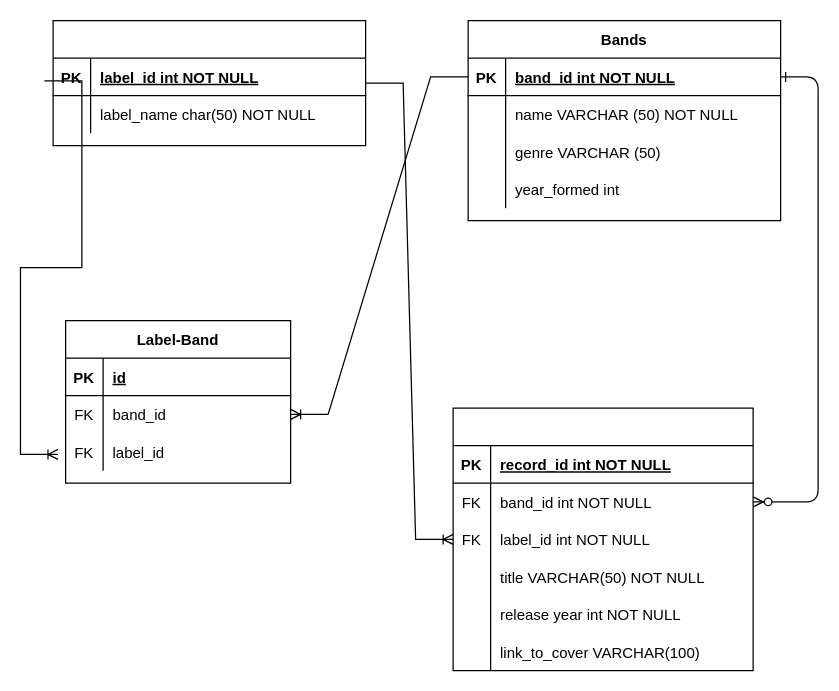
Some shapes in this 839 by 691 pixel diagram are drawn without their labels. Each missing label, with the box of its shape:
Labels: (52, 19, 366, 146)
Records: (452, 407, 753, 671)
